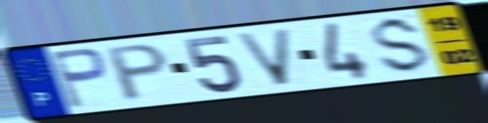4: (323, 20, 372, 83)
5: (179, 33, 245, 95)
P: (105, 41, 171, 105), (47, 46, 111, 111)
S: (370, 15, 433, 76)
V: (232, 27, 295, 88)
